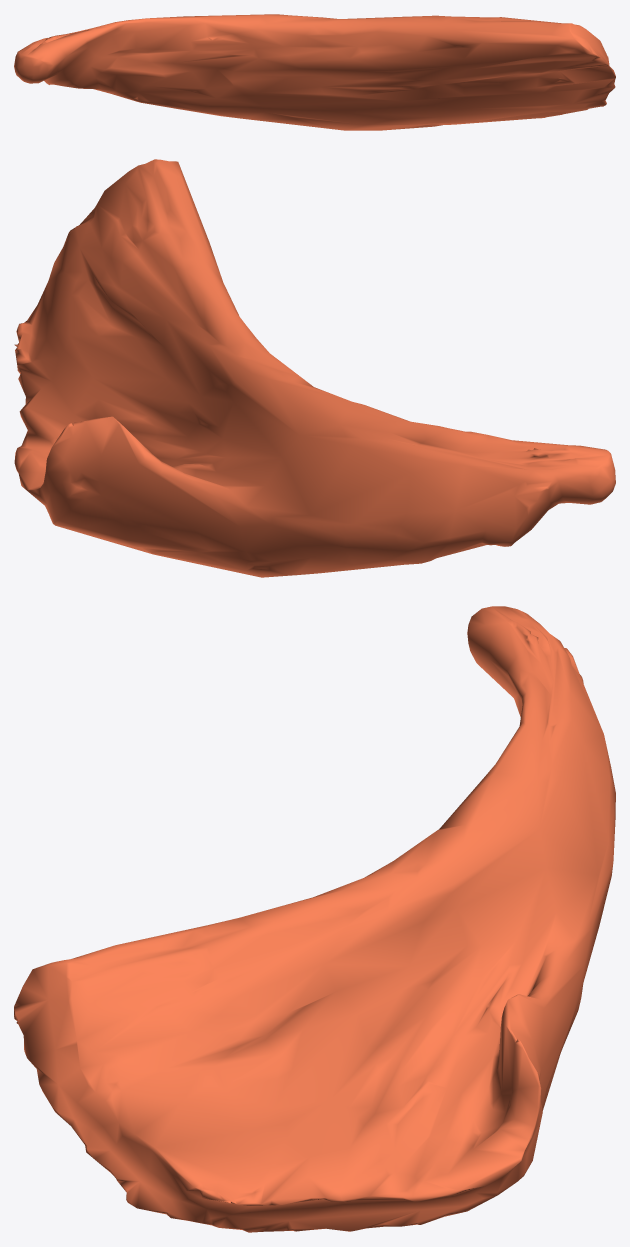
Rendered from Obturator_externus.r_Generated_Mesh_From_X3D.324.glb.
The picture shows the model from 3 angles, top to bottom: view 1: azimuth 30°, elevation 25°; view 2: azimuth 150°, elevation 25°; view 3: azimuth 270°, elevation 25°; orthographic projection. The views are drawn at different scales.
Visible parts, largest first — view 1: Obturator_externus.r_Generated_Mesh_From_X3D.324; view 2: Obturator_externus.r_Generated_Mesh_From_X3D.324; view 3: Obturator_externus.r_Generated_Mesh_From_X3D.324.
Boxes of the visible parts, x1=… form: Obturator_externus.r_Generated_Mesh_From_X3D.324: x1=14, y1=14, x2=615, y2=130; Obturator_externus.r_Generated_Mesh_From_X3D.324: x1=14, y1=159, x2=615, y2=577; Obturator_externus.r_Generated_Mesh_From_X3D.324: x1=14, y1=606, x2=615, y2=1232.
Size of the model in its own units: 0.0995 by 0.0309 by 0.0581.
